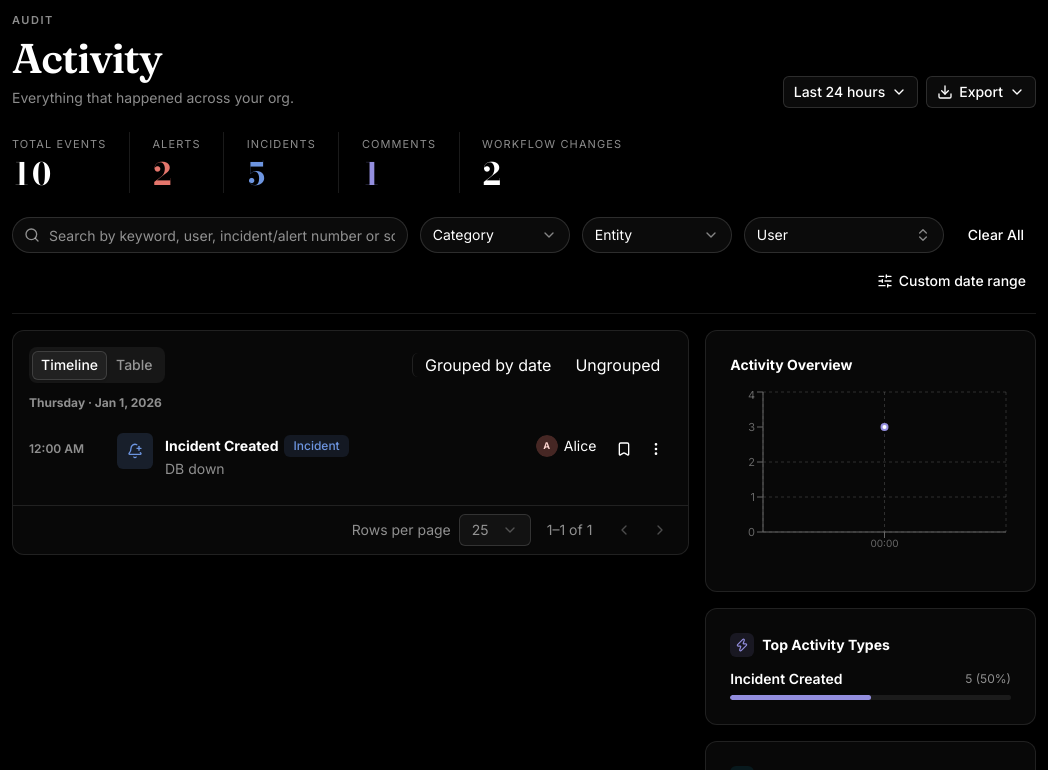
ActivityPage — filters › changes the range via the range dropdown
Click the button "Last 24 hours": (850, 92) [783, 76, 918, 108]
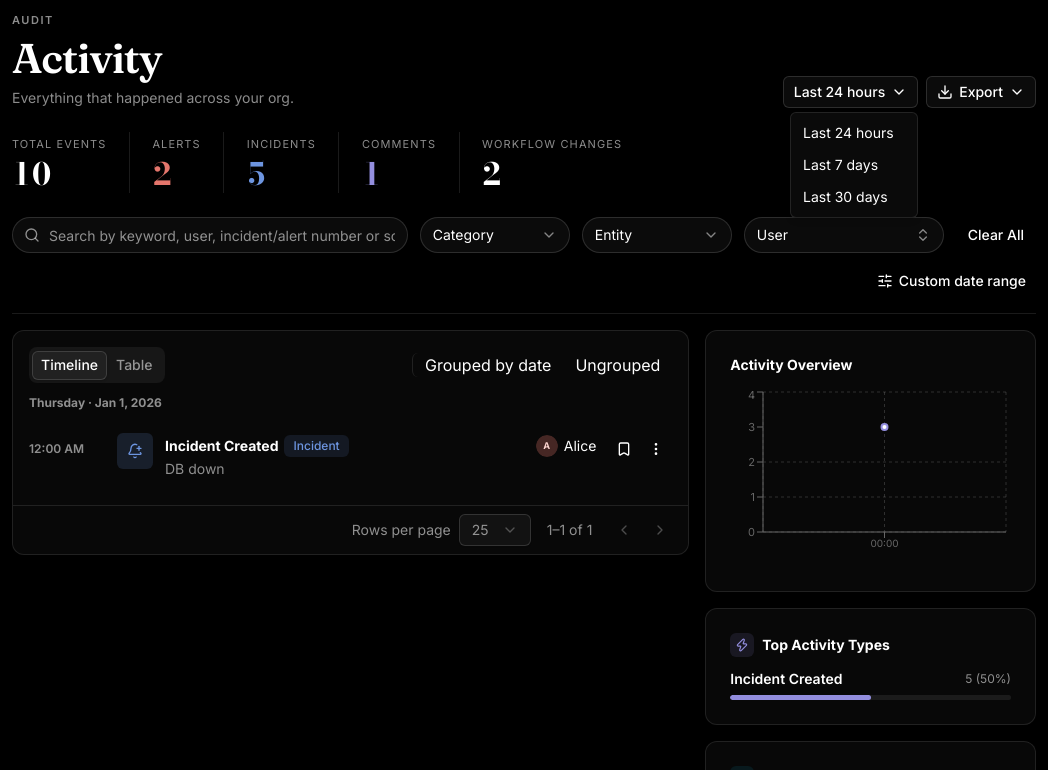
Click the menu item "Last 7 days": (840, 164) [803, 156, 878, 173]
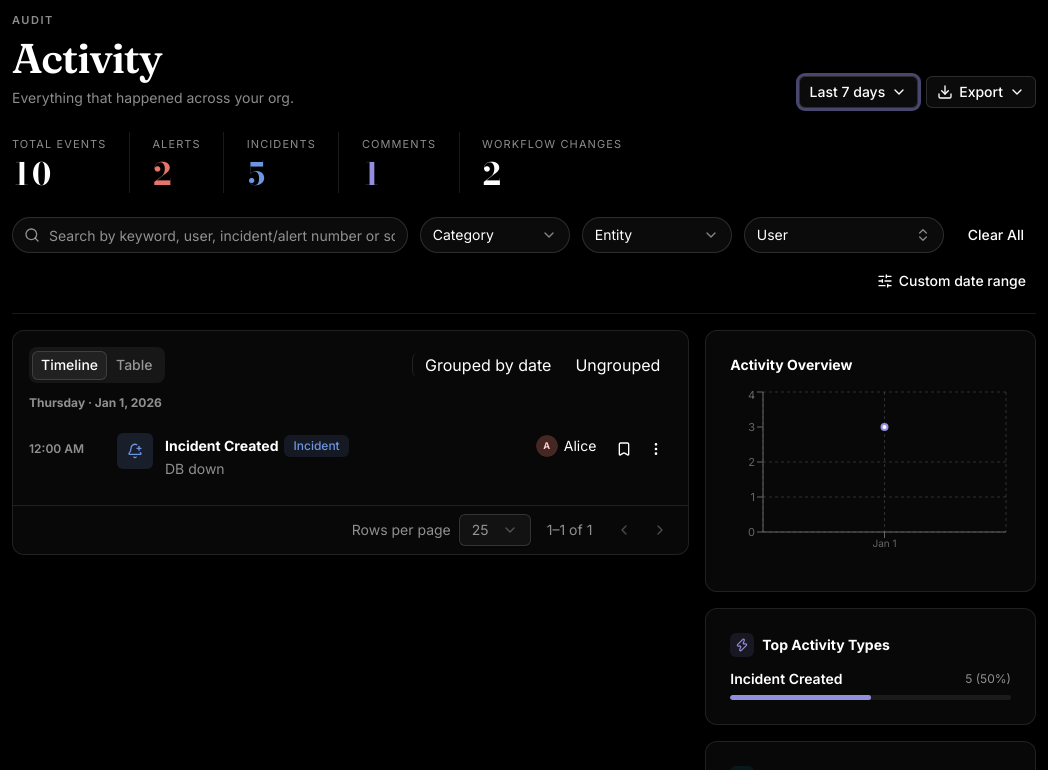
Expected: the button "Last 7 days" is shown, [799, 76, 918, 108]
